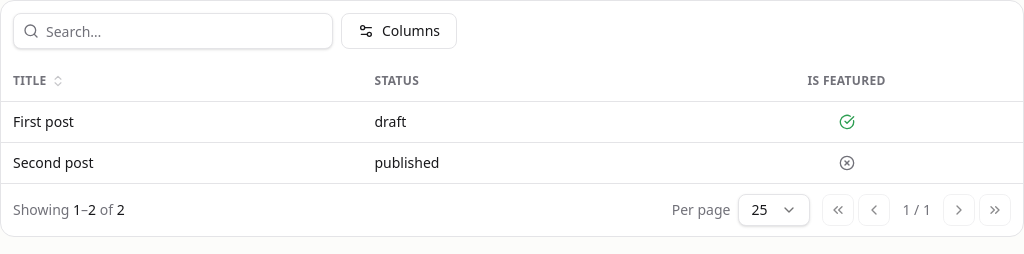
Test: column visibility › hides a column when its toggle is switched off
The width and height of the screenshot is (1024, 254).
Check: the text "First post" is shown, box [13,112,74,132]
Check: the column heading "Is Featured" is shown, box [670,61,1023,101]
Click the button "Columns": (399, 31) [341,13,457,49]
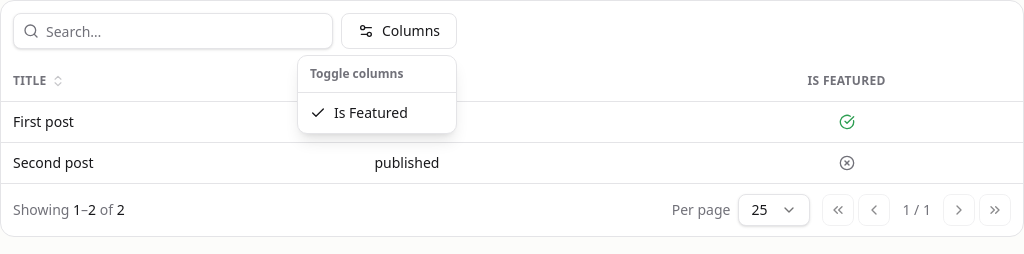
Click the menu item "Is Featured": (359, 112) [310,103,408,122]
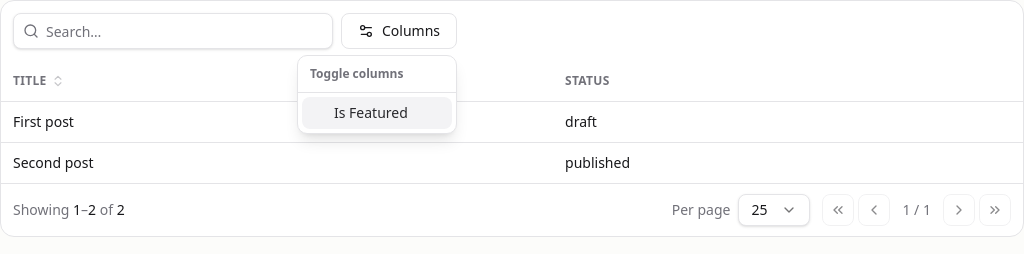
Press Escape
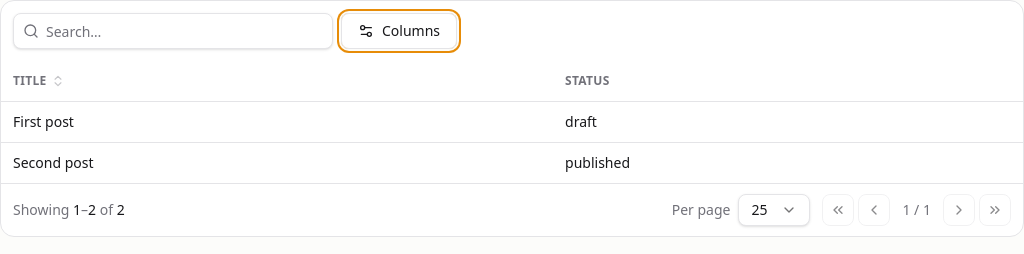
Check: the menu item "Is Featured" is gone
